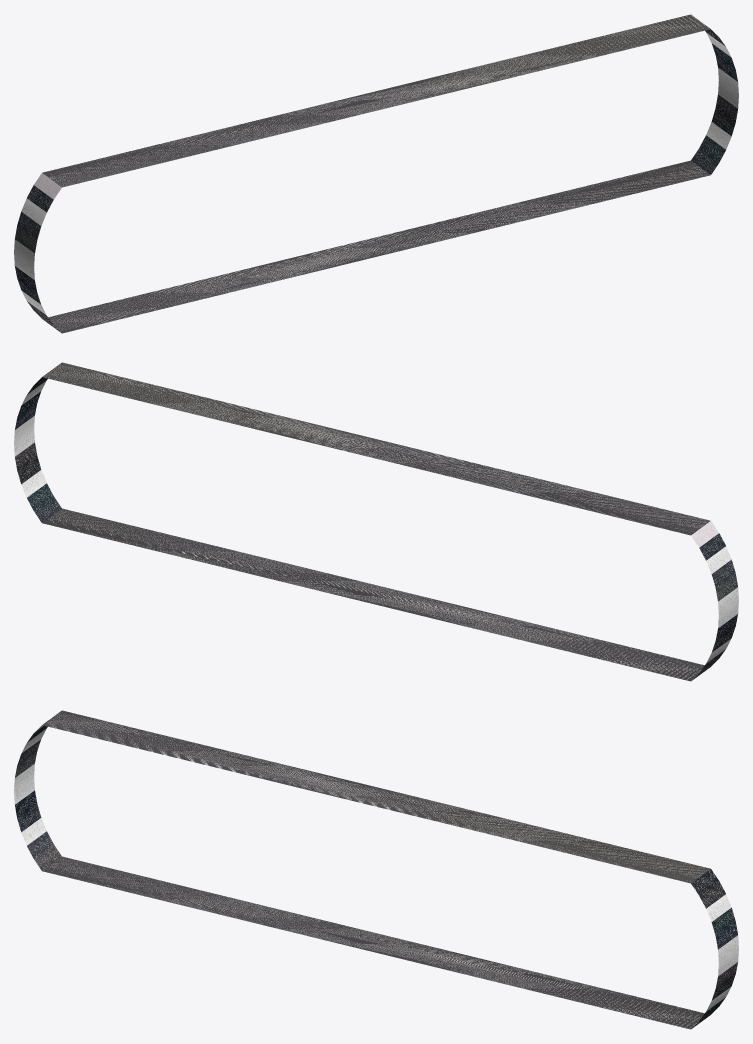
Rendered from original-25.obj.
3 renders of one model, top to bottom at view 1: azimuth 30°, elevation 25°; view 2: azimuth 150°, elevation 25°; view 3: azimuth 330°, elevation 25°, orthographic.
Visible parts, largest first — view 1: 3dw.5334cfe15f80099f15ac67104577aee7/Model/mesh1/mesh1-geometry/; view 2: 3dw.5334cfe15f80099f15ac67104577aee7/Model/mesh1/mesh1-geometry/; view 3: 3dw.5334cfe15f80099f15ac67104577aee7/Model/mesh1/mesh1-geometry/.
Boxes of the visible parts, left/top/right/bottom form: 3dw.5334cfe15f80099f15ac67104577aee7/Model/mesh1/mesh1-geometry/: left=14, top=14, right=738, bottom=333; 3dw.5334cfe15f80099f15ac67104577aee7/Model/mesh1/mesh1-geometry/: left=14, top=362, right=738, bottom=681; 3dw.5334cfe15f80099f15ac67104577aee7/Model/mesh1/mesh1-geometry/: left=14, top=710, right=738, bottom=1029.
Bounding box in the file's own units: 0.1747 × 0.0346 × 0.00865.
2 materials, 1 textured.
